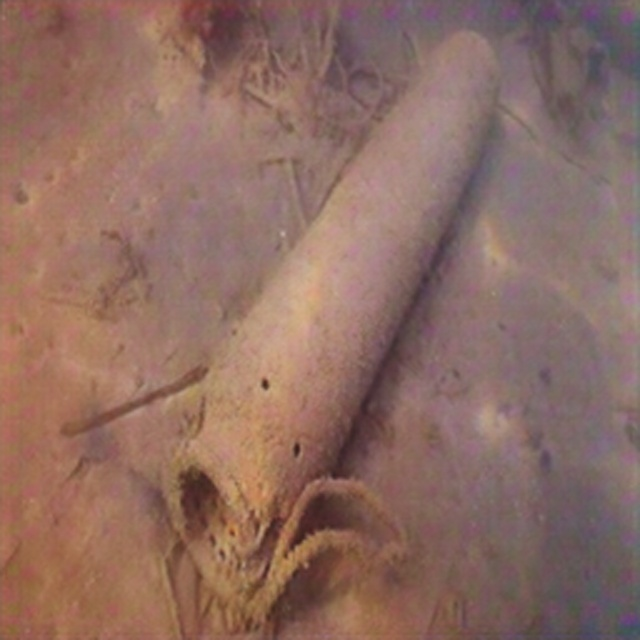mine: (166, 31, 498, 618)
